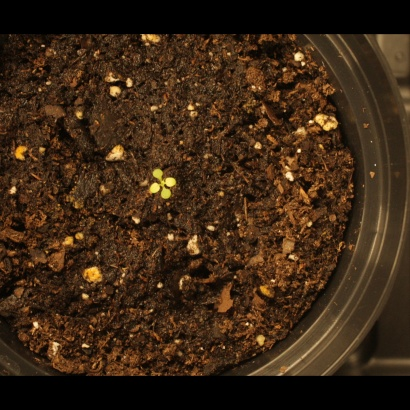leaf: (142, 157, 165, 180), (166, 165, 189, 188), (161, 187, 184, 210), (138, 182, 161, 205)
